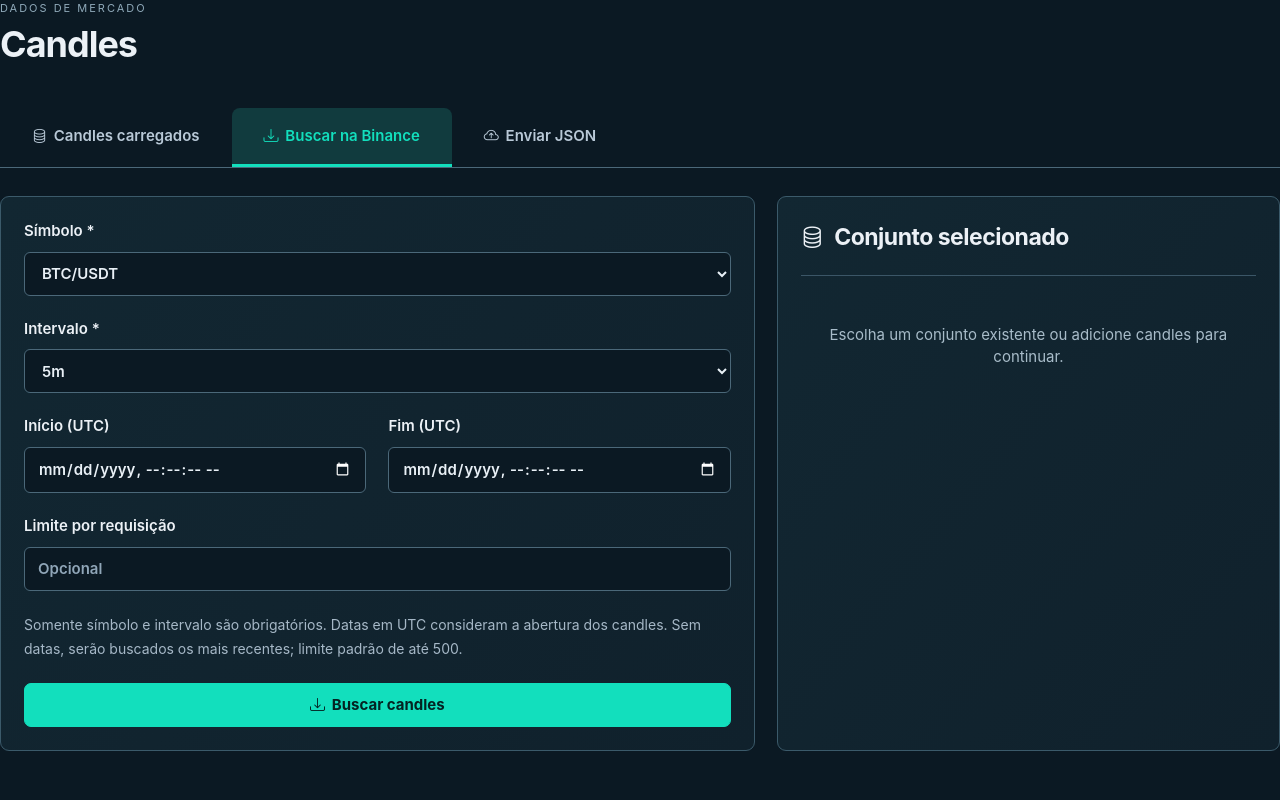
falhas na verificação bloqueiam a exclusão e permitem uma nova consulta
Step 1. Click the tab "Candles carregados" → click(116, 137), box x1=0 y1=108 x2=232 y2=167
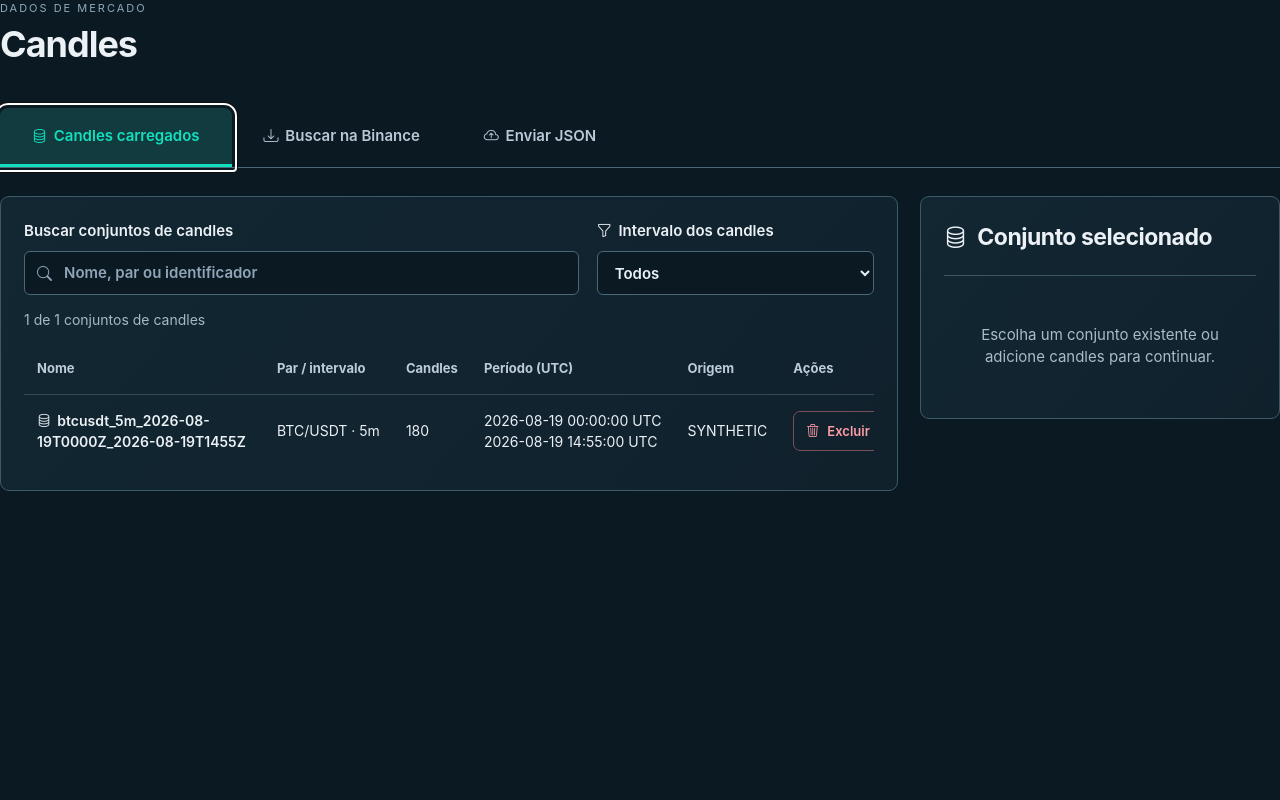
Step 2. Click the button "Excluir" → click(838, 431), box x1=793 y1=411 x2=883 y2=451
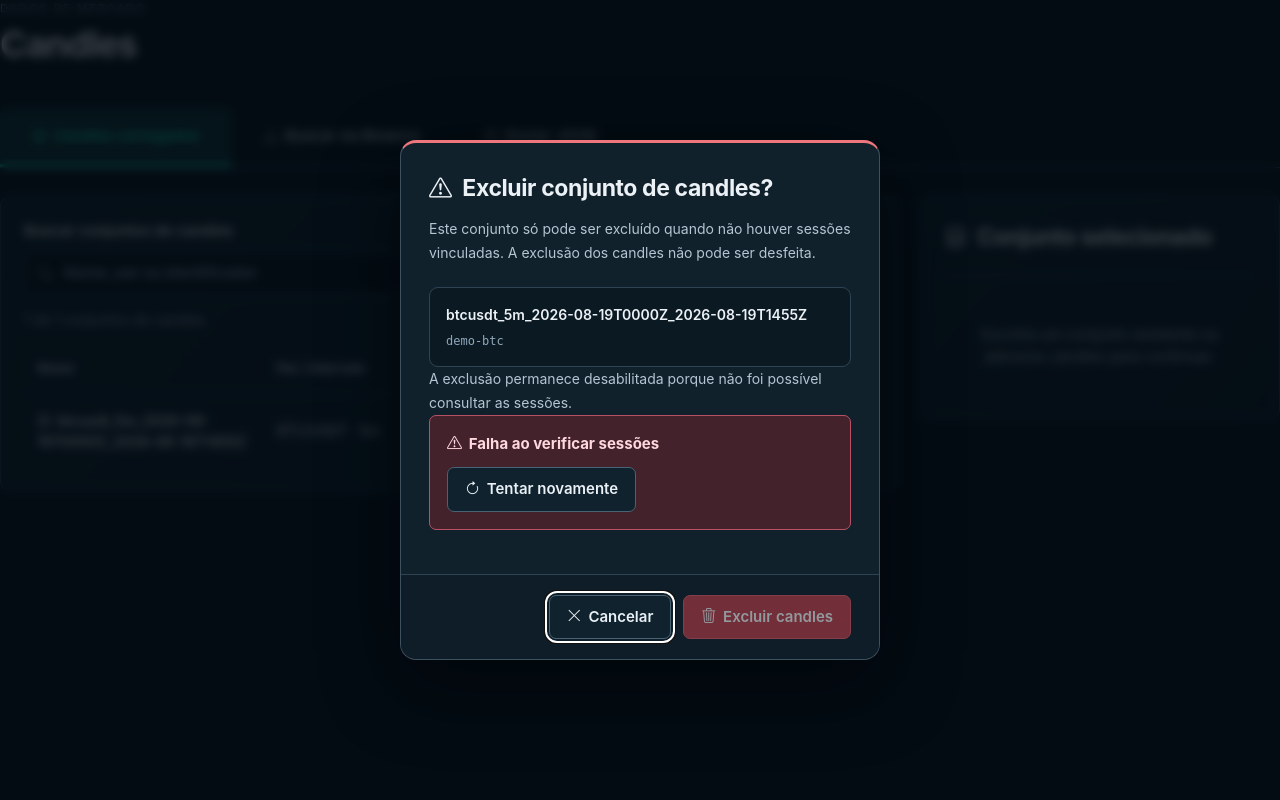
Expected: the message shows "Falha ao verificar sessões", x1=469 y1=434 x2=659 y2=453
Expected: the button "Excluir candles" is disabled, x1=683 y1=595 x2=851 y2=639
Step 3. Click the button "Tentar novamente" → click(542, 489), box x1=447 y1=467 x2=636 y2=512
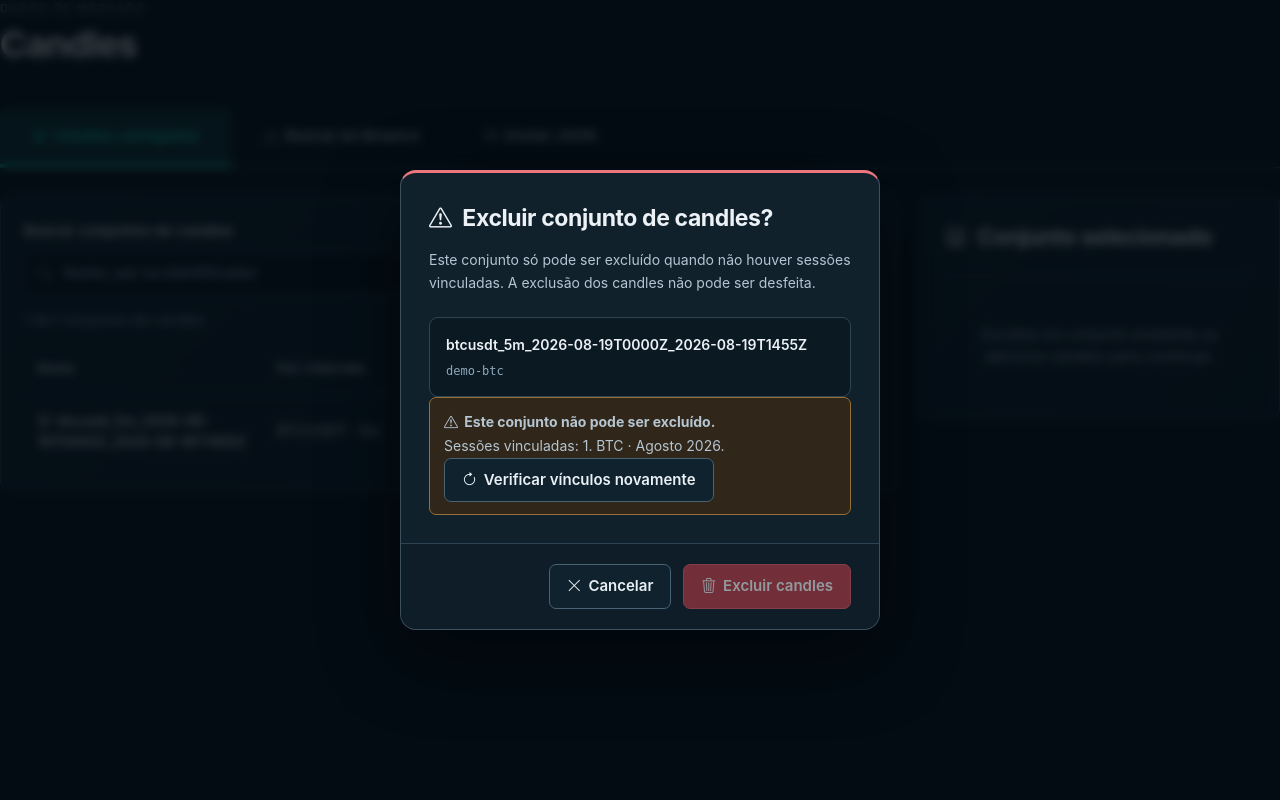
Expected: the message shows "Sessões vinculadas: 1", x1=429 y1=397 x2=851 y2=515
